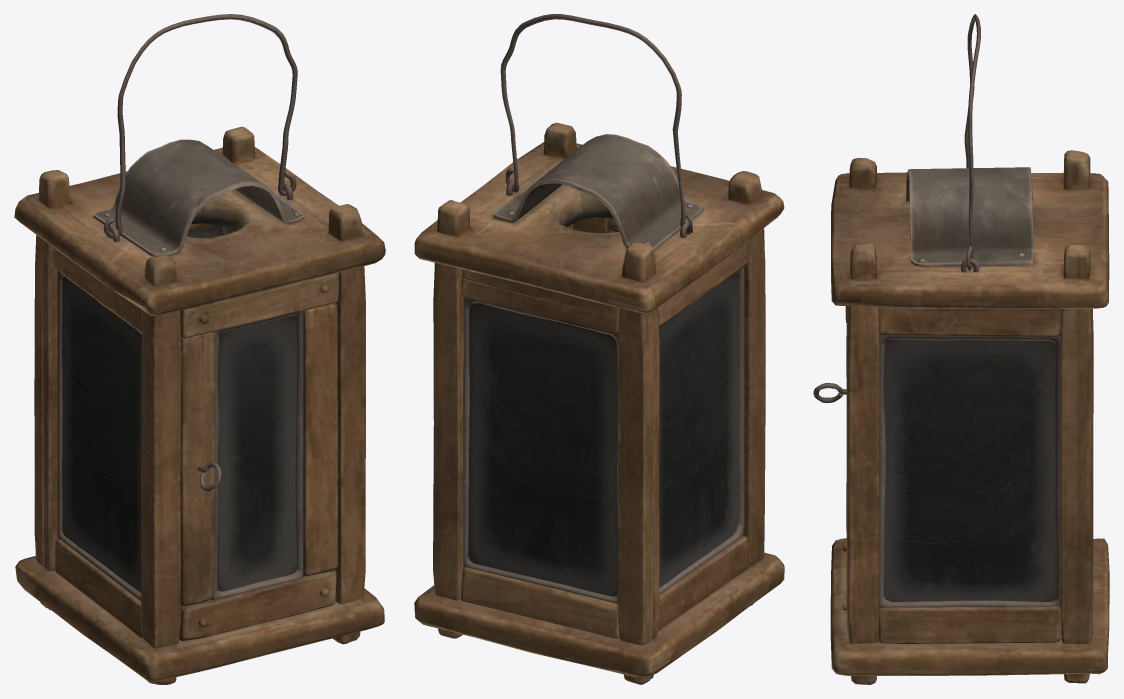
File: wooden_lantern_01.glb
The picture shows the model from 3 angles, left to right: view 1: azimuth 30°, elevation 25°; view 2: azimuth 150°, elevation 25°; view 3: azimuth 270°, elevation 25°; orthographic projection.
Visible parts, largest first — view 1: wooden_lantern_01; view 2: wooden_lantern_01; view 3: wooden_lantern_01.
Boxes of the visible parts, x1,y1,x2,y2 form: wooden_lantern_01: (14,14,385,684); wooden_lantern_01: (414,14,784,684); wooden_lantern_01: (813,14,1109,684).
Size of the model in its own units: 0.221 by 0.5301 by 0.2347.
2 materials, 2 textured.
